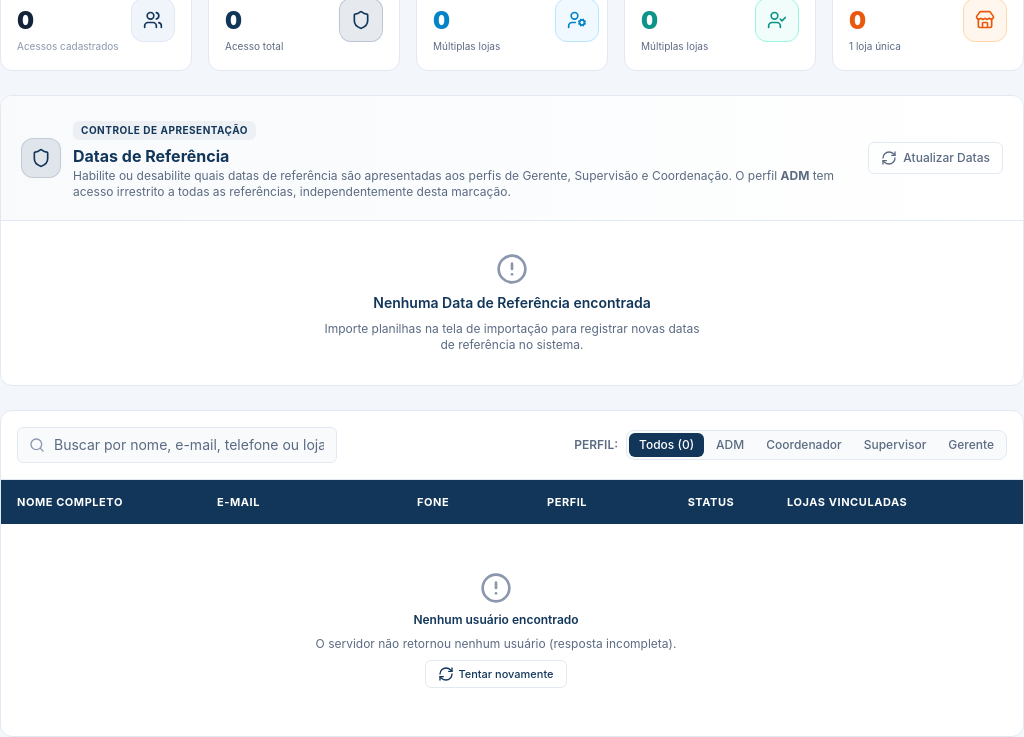
Admin - requests 200 mas tela vazia (regressão) › users 200 com lista vazia: aviso visível + botão Tentar novamente (nunca silêncio)
(page scrolled)
Expected: the text "O servidor não retornou nenhum usuário" is shown, x1=316 y1=636 x2=676 y2=650
Step 1. Click the button "Tentar novamente" → (496, 674), box x1=425 y1=660 x2=566 y2=688
(page scrolled)
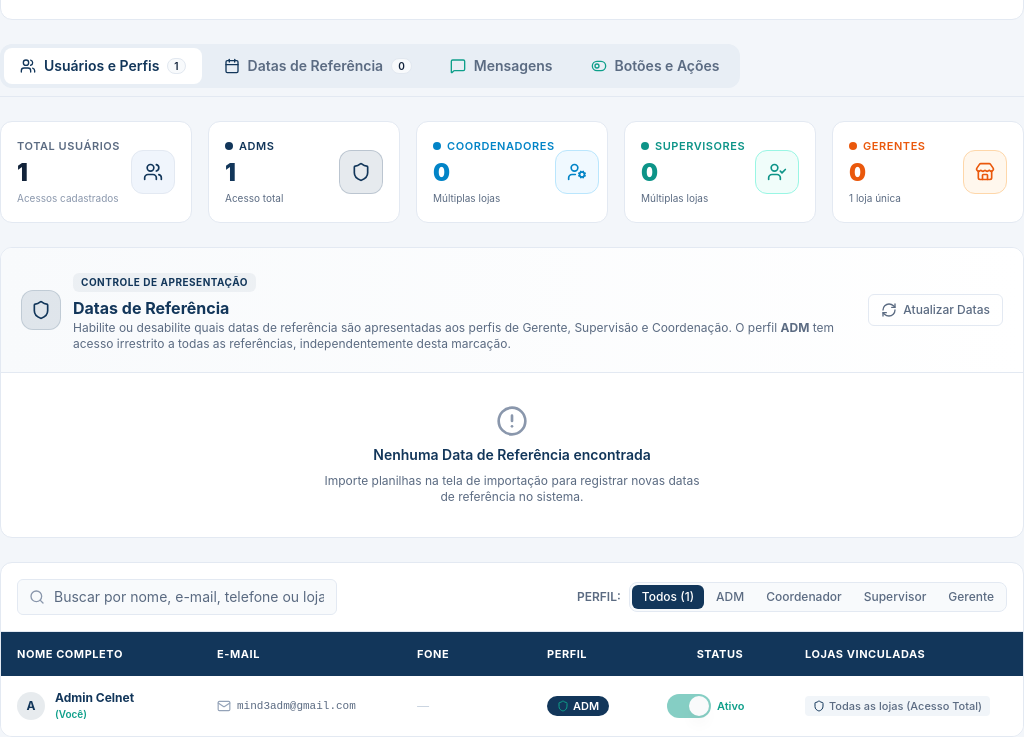
Now the text "Admin Celnet" is shown, box x1=55 y1=690 x2=134 y2=706
